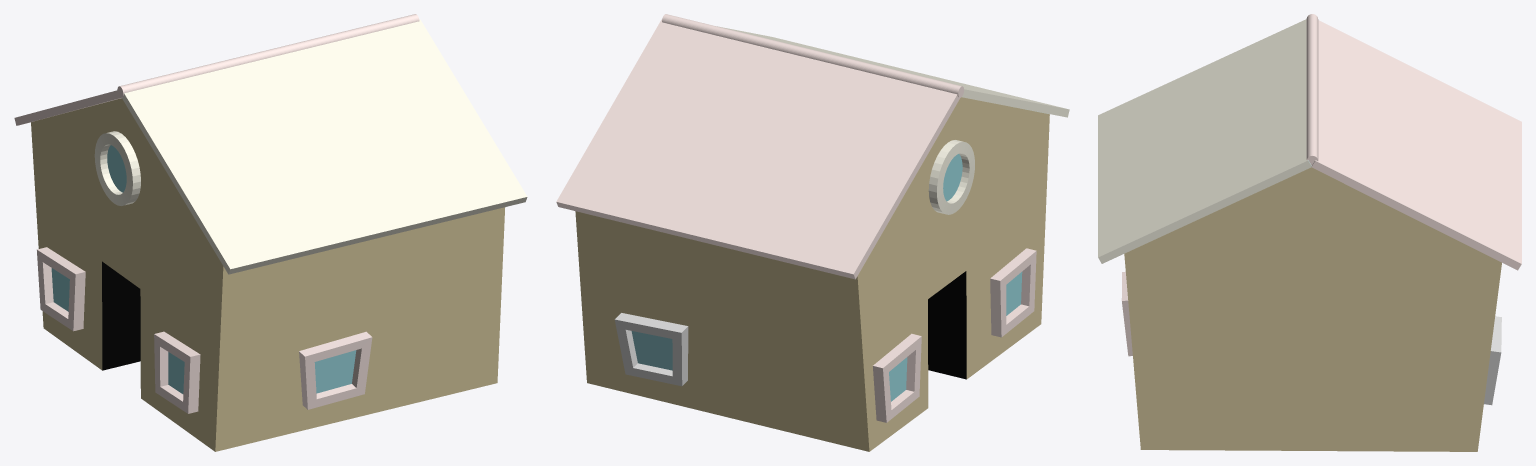
Rendered from casaBeige.fbx.
3 renders of one model, left to right at view 1: azimuth 30°, elevation 25°; view 2: azimuth 150°, elevation 25°; view 3: azimuth 270°, elevation 25°, orthographic. The views are drawn at different scales.
Visible parts, largest first — view 1: Cube.018; view 2: Cube.018; view 3: Cube.018.
Boxes of the visible parts, box(x1,y1,x2,y2) form: Cube.018: box(14, 14, 527, 451); Cube.018: box(556, 14, 1069, 451); Cube.018: box(1098, 14, 1521, 451).
Bounding box in the file's own units: 1014 × 983 × 1262.
